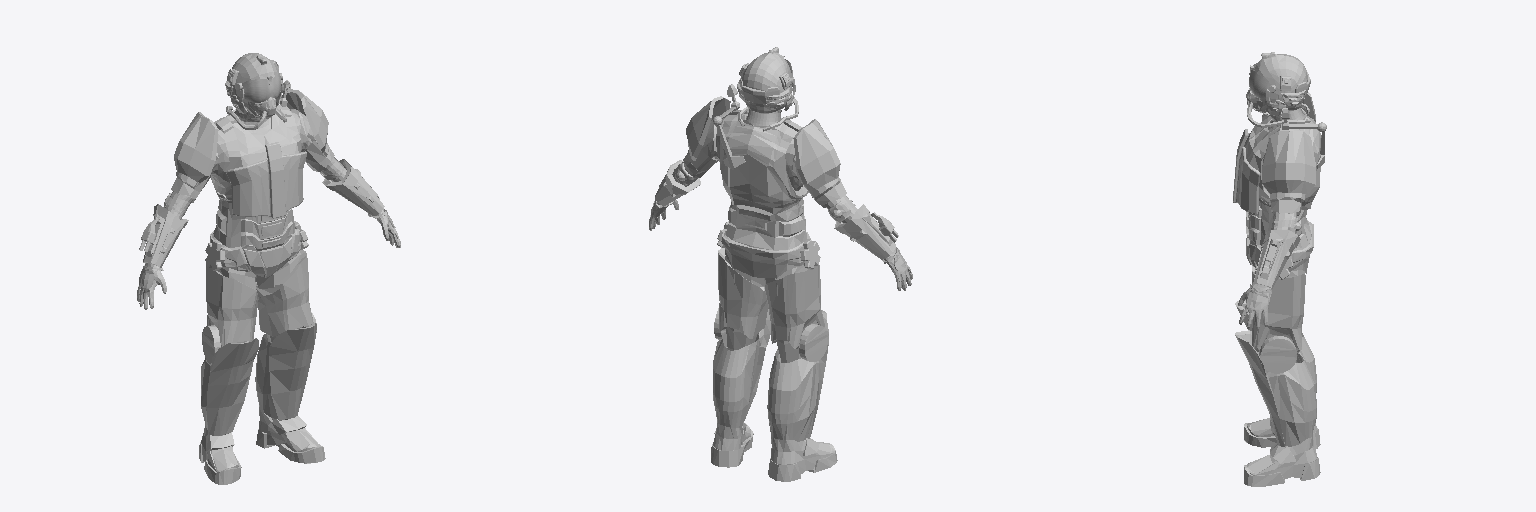
The model's file is lowres.obj.
The picture shows the model from 3 angles: view 1: azimuth 30°, elevation 25°; view 2: azimuth 150°, elevation 25°; view 3: azimuth 270°, elevation 25°; orthographic projection.
Visible parts, largest first — view 1: Exporting_Group_Mat1_Cube.116, Exporting_Group3_Mat1_Cube.117, Exoprting_Group_Mat2_Cube.159, Exporting_Group2_Mat_2_Cube.148, Exporting_Group2_Mat1.001_Cube.001, Exporting_Group2_Mat1_Cube.137, Exporting_Group3_Mat_2_Cube.143, Exporting_Group4_Mat2.001_Cube.003; view 2: Exporting_Group3_Mat1_Cube.117, Exporting_Group_Mat1_Cube.116, Exoprting_Group_Mat2_Cube.159, Exporting_Group2_Mat_2_Cube.148, Exporting_Group2_Mat1_Cube.137, Exporting_Group2_Mat1.001_Cube.001, Exporting_Group3_Mat_2_Cube.143; view 3: Exporting_Group_Mat1_Cube.116, Exporting_Group3_Mat1_Cube.117, Exoprting_Group_Mat2_Cube.159, Exporting_Group2_Mat_2_Cube.148, Exporting_Group2_Mat1.001_Cube.001, Exporting_Group3_Mat_2_Cube.143, Exoprting_Group_Mat2.001_Cube.000.
Boxes of the visible parts, x1=… form: Exporting_Group_Mat1_Cube.116: x1=143, y1=109, x2=384, y2=472; Exporting_Group3_Mat1_Cube.117: x1=202, y1=105, x2=316, y2=363; Exoprting_Group_Mat2_Cube.159: x1=139, y1=60, x2=328, y2=251; Exporting_Group2_Mat_2_Cube.148: x1=137, y1=69, x2=400, y2=309; Exporting_Group2_Mat1.001_Cube.001: x1=199, y1=416, x2=325, y2=484; Exporting_Group2_Mat1_Cube.137: x1=205, y1=221, x2=308, y2=445; Exporting_Group3_Mat_2_Cube.143: x1=230, y1=53, x2=277, y2=99; Exporting_Group4_Mat2.001_Cube.003: x1=242, y1=73, x2=280, y2=102; Exporting_Group3_Mat1_Cube.117: x1=714, y1=110, x2=828, y2=361; Exporting_Group_Mat1_Cube.116: x1=655, y1=118, x2=895, y2=473; Exoprting_Group_Mat2_Cube.159: x1=686, y1=63, x2=898, y2=242; Exporting_Group2_Mat_2_Cube.148: x1=649, y1=66, x2=912, y2=290; Exporting_Group2_Mat1_Cube.137: x1=717, y1=221, x2=820, y2=362; Exporting_Group2_Mat1.001_Cube.001: x1=711, y1=422, x2=837, y2=481; Exporting_Group3_Mat_2_Cube.143: x1=742, y1=47, x2=792, y2=113; Exporting_Group_Mat1_Cube.116: x1=1233, y1=108, x2=1317, y2=479; Exporting_Group3_Mat1_Cube.117: x1=1244, y1=109, x2=1320, y2=373; Exoprting_Group_Mat2_Cube.159: x1=1246, y1=76, x2=1317, y2=194; Exporting_Group2_Mat_2_Cube.148: x1=1238, y1=69, x2=1326, y2=328; Exporting_Group2_Mat1.001_Cube.001: x1=1244, y1=418, x2=1320, y2=486; Exporting_Group3_Mat_2_Cube.143: x1=1254, y1=52, x2=1307, y2=110; Exoprting_Group_Mat2.001_Cube.000: x1=1241, y1=284, x2=1271, y2=318.
Bounding box in the file's own units: 41.62 × 63.53 × 13.27.